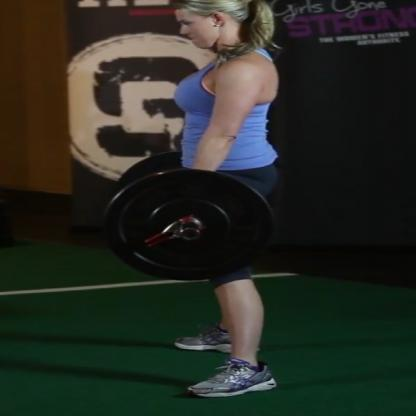Barbell: (93, 162, 284, 289)
